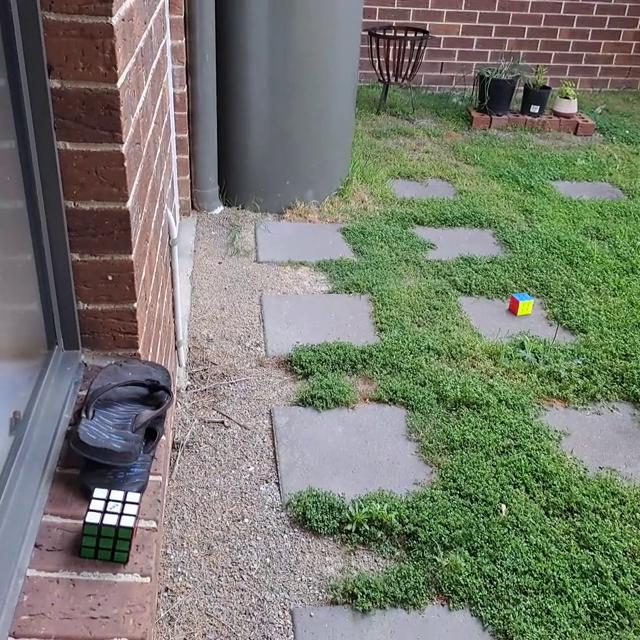rubix_cube: (78, 483, 144, 566), (507, 290, 536, 318)
